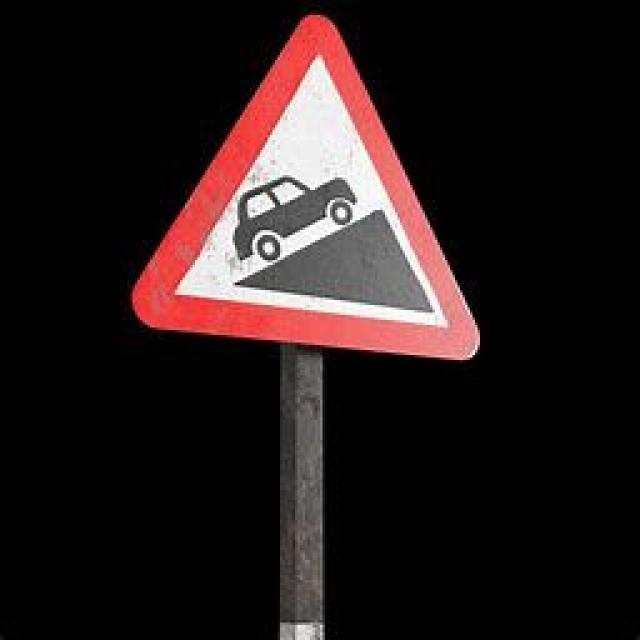STEEP_ASCENT: (113, 8, 506, 373)
